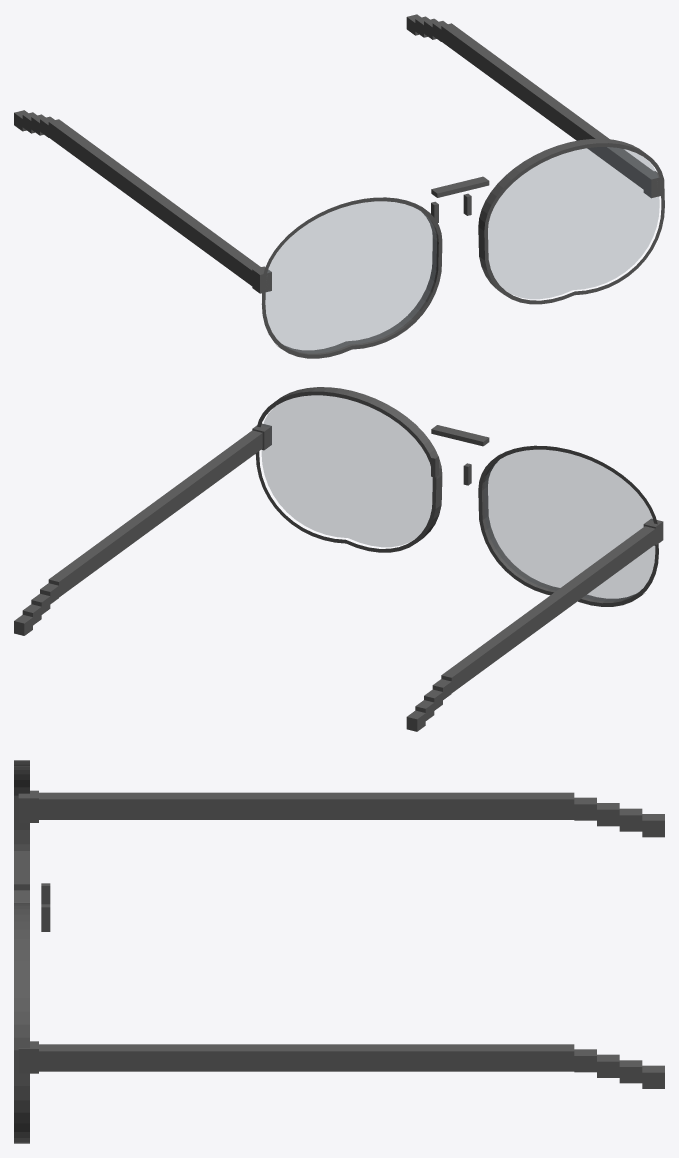
Rendered from p-aviator.glb.
3 renders of one model, top to bottom at view 1: azimuth 30°, elevation 25°; view 2: azimuth 150°, elevation 25°; view 3: azimuth 270°, elevation 25°, orthographic. The views are drawn at different scales.
Parts seen in each view (by area): view 1: Lens, Frame; view 2: Lens, Frame; view 3: Frame.
Boxes of the visible parts, x1,y1,x2,y2 form: Lens: (265, 147, 659, 353); Frame: (14, 14, 664, 358); Lens: (262, 395, 654, 601); Frame: (14, 387, 663, 731); Frame: (14, 760, 664, 1143).
Size of the model in its own units: 135 by 48.06 by 144.
